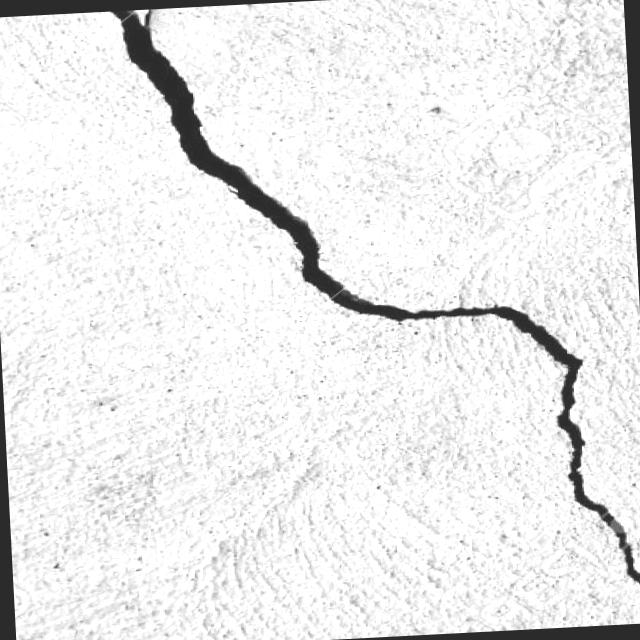crack: (111, 0, 434, 338), (436, 295, 640, 605)
